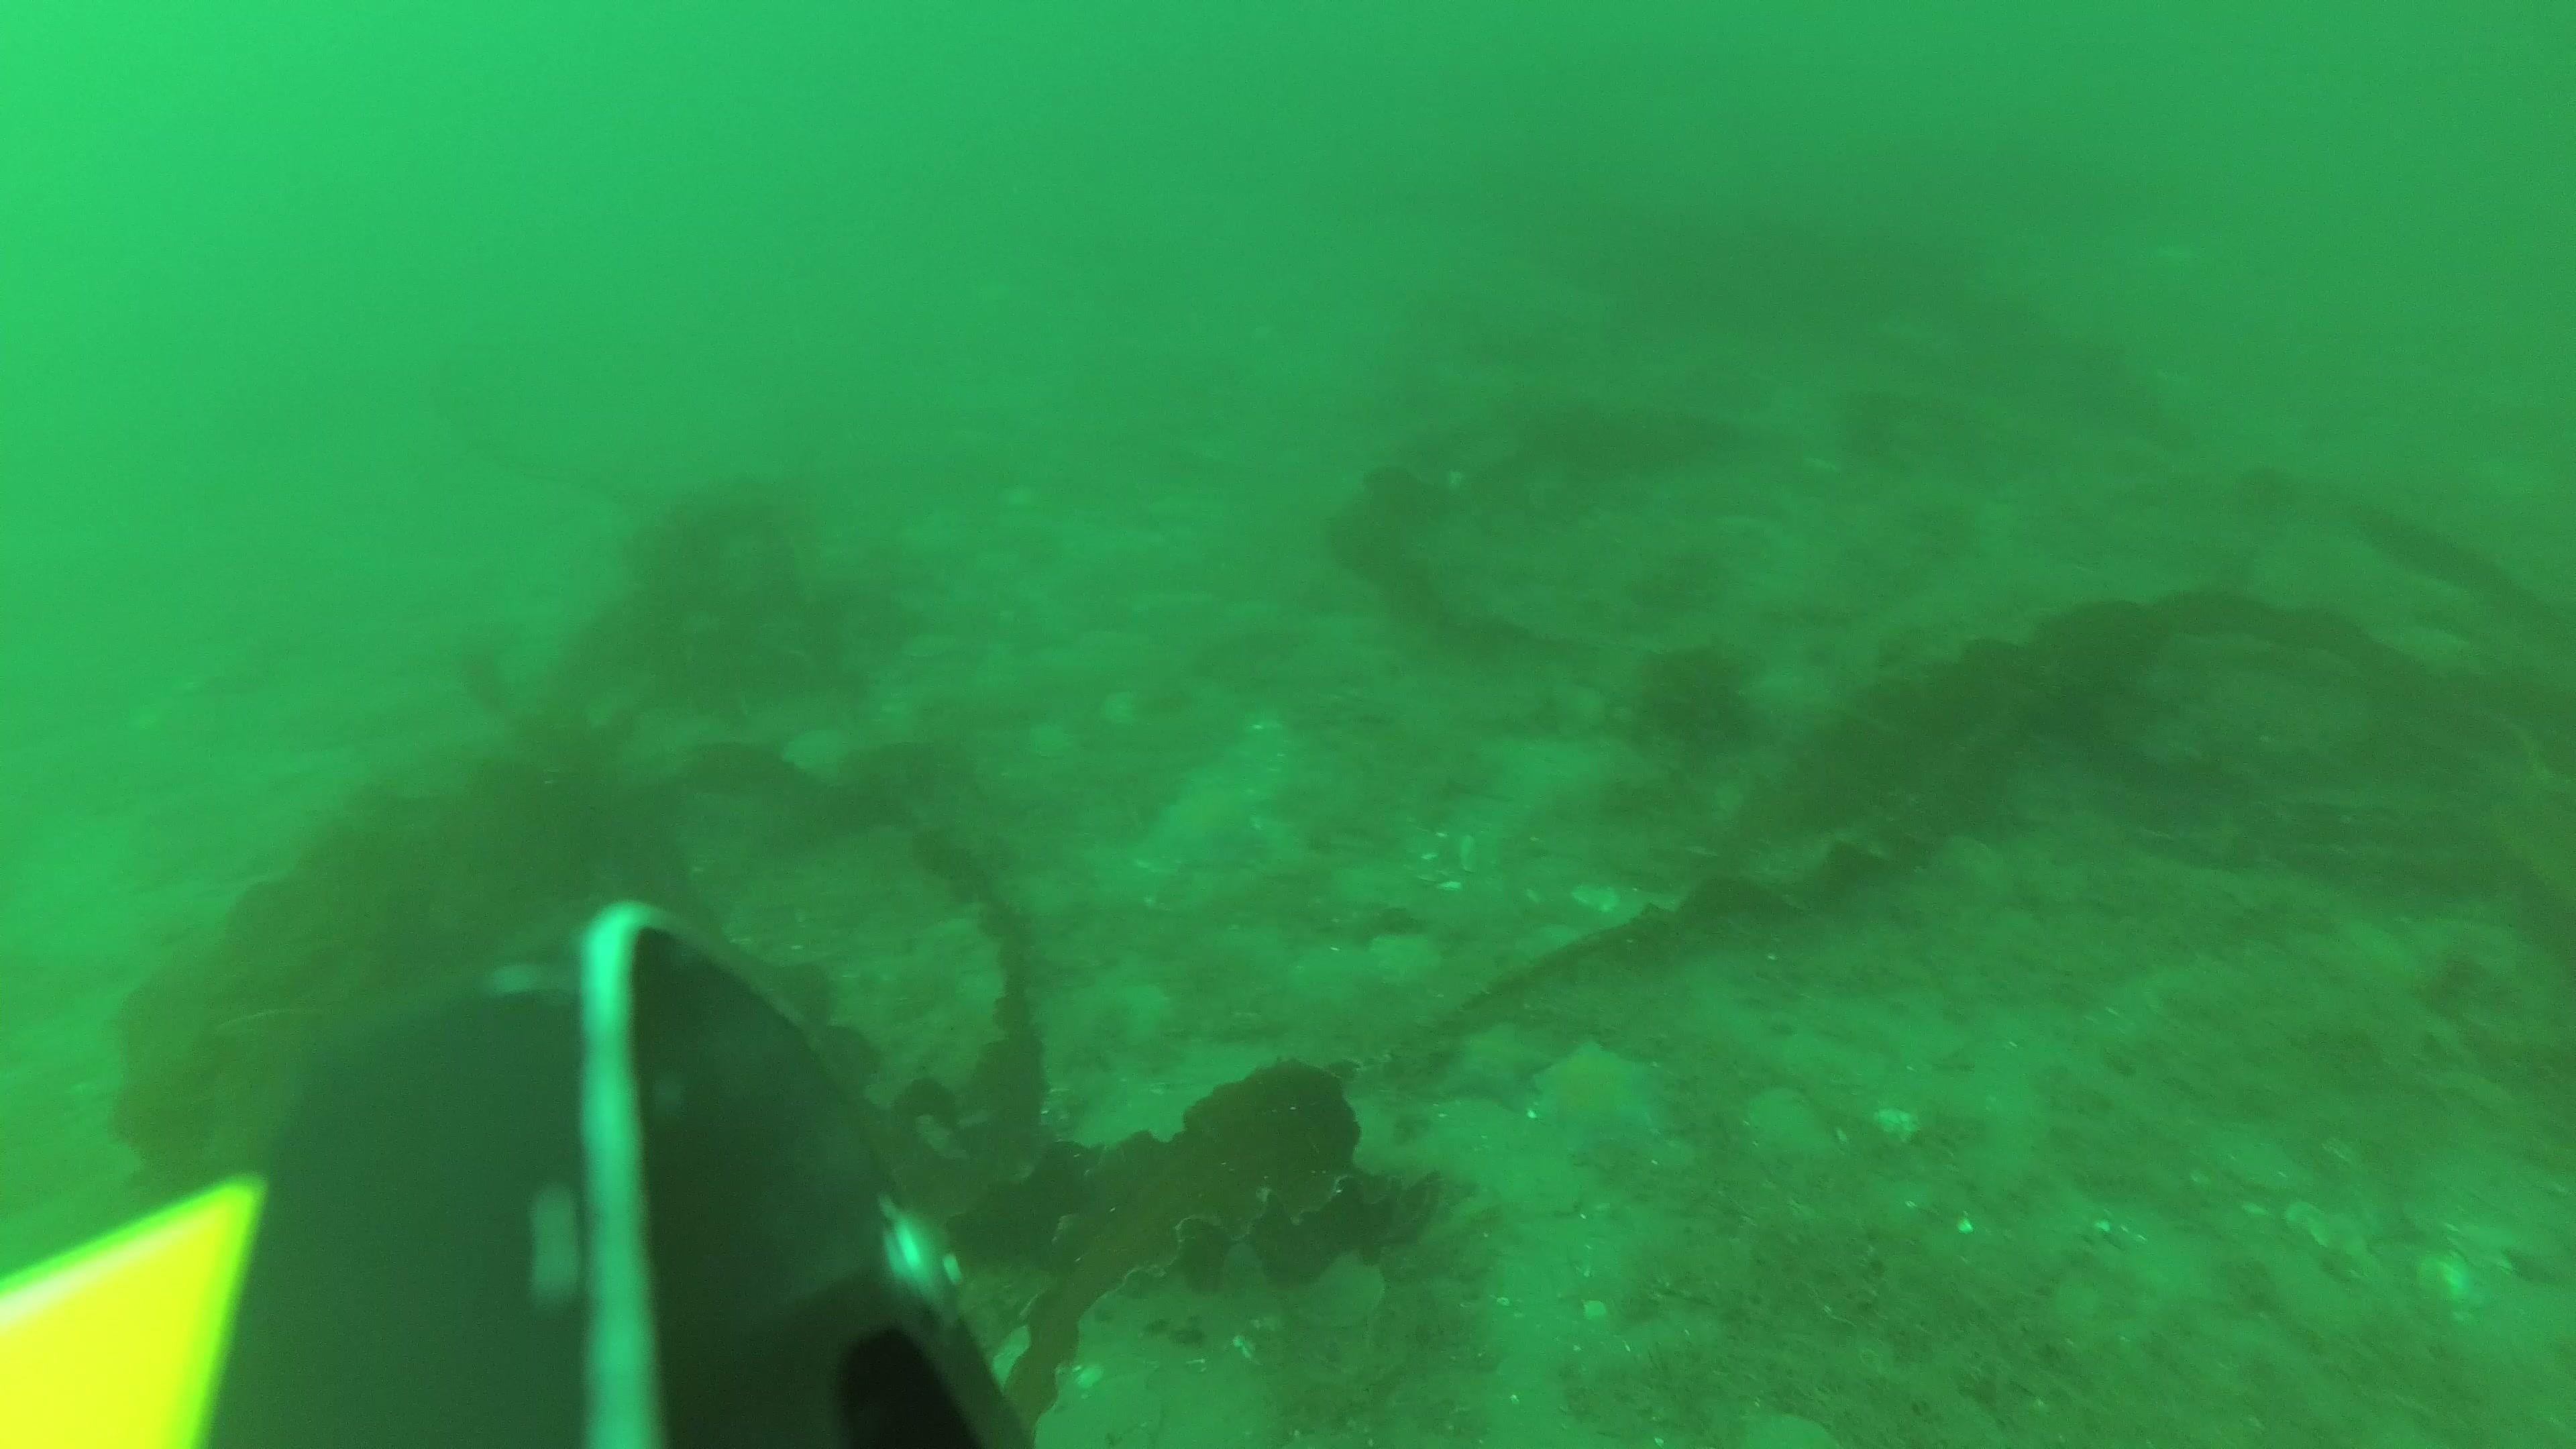scallop: (1276, 1249, 1394, 1336), (1741, 1077, 1842, 1175), (1362, 918, 1449, 994), (771, 720, 853, 780), (895, 630, 964, 663), (1024, 720, 1072, 764), (1095, 686, 1143, 731)
starfish: (1527, 1040, 1672, 1154), (1146, 777, 1267, 874), (1444, 1008, 1545, 1118)
